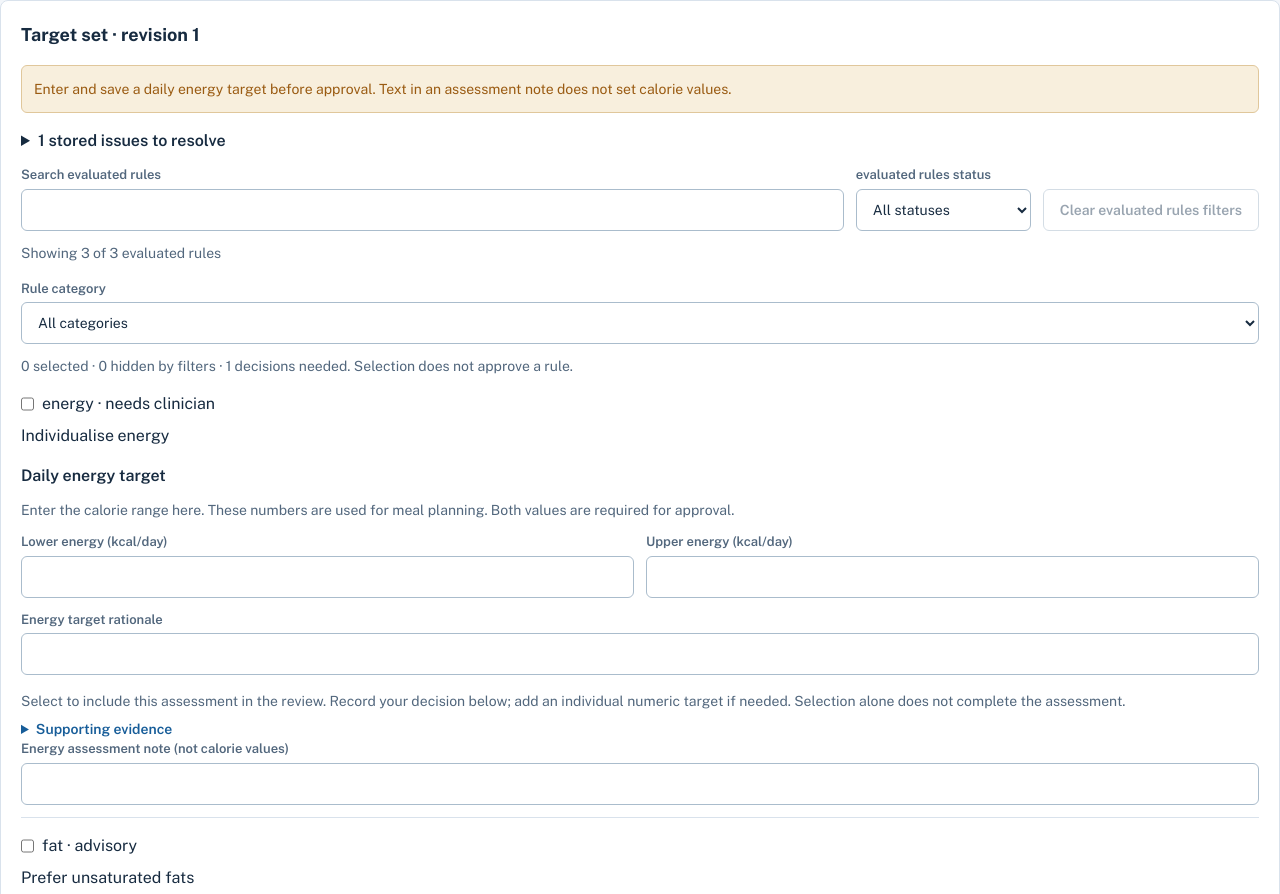
Test case: hidden unresolved assessments are revealed before a save
Select "Advisory guidance" in the dropdown labelled "Rule category" at [640, 323], box x1=21 y1=302 x2=1259 y2=344
(page scrolled)
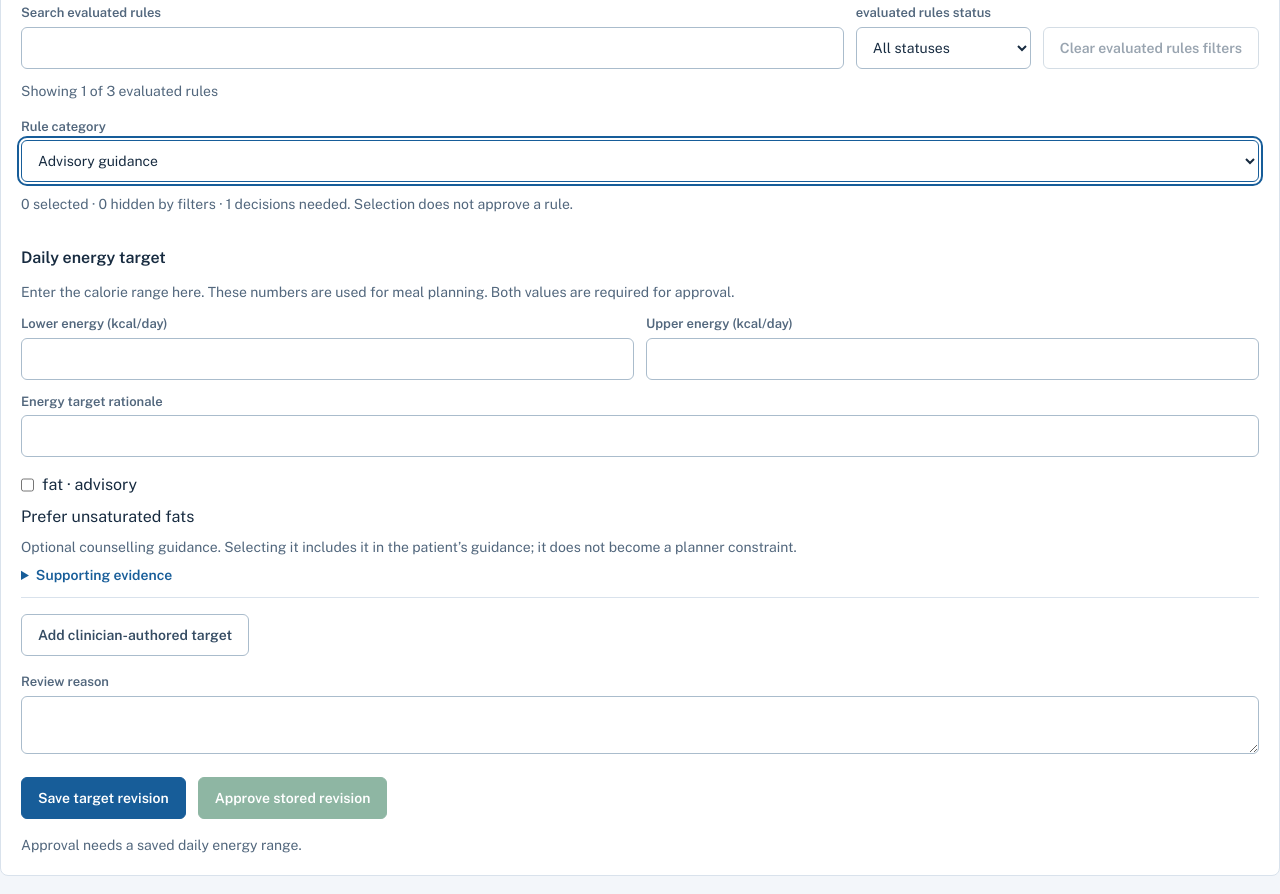
Type "Review" into the text box labelled "Review reason" at [640, 725], box x1=21 y1=696 x2=1259 y2=754
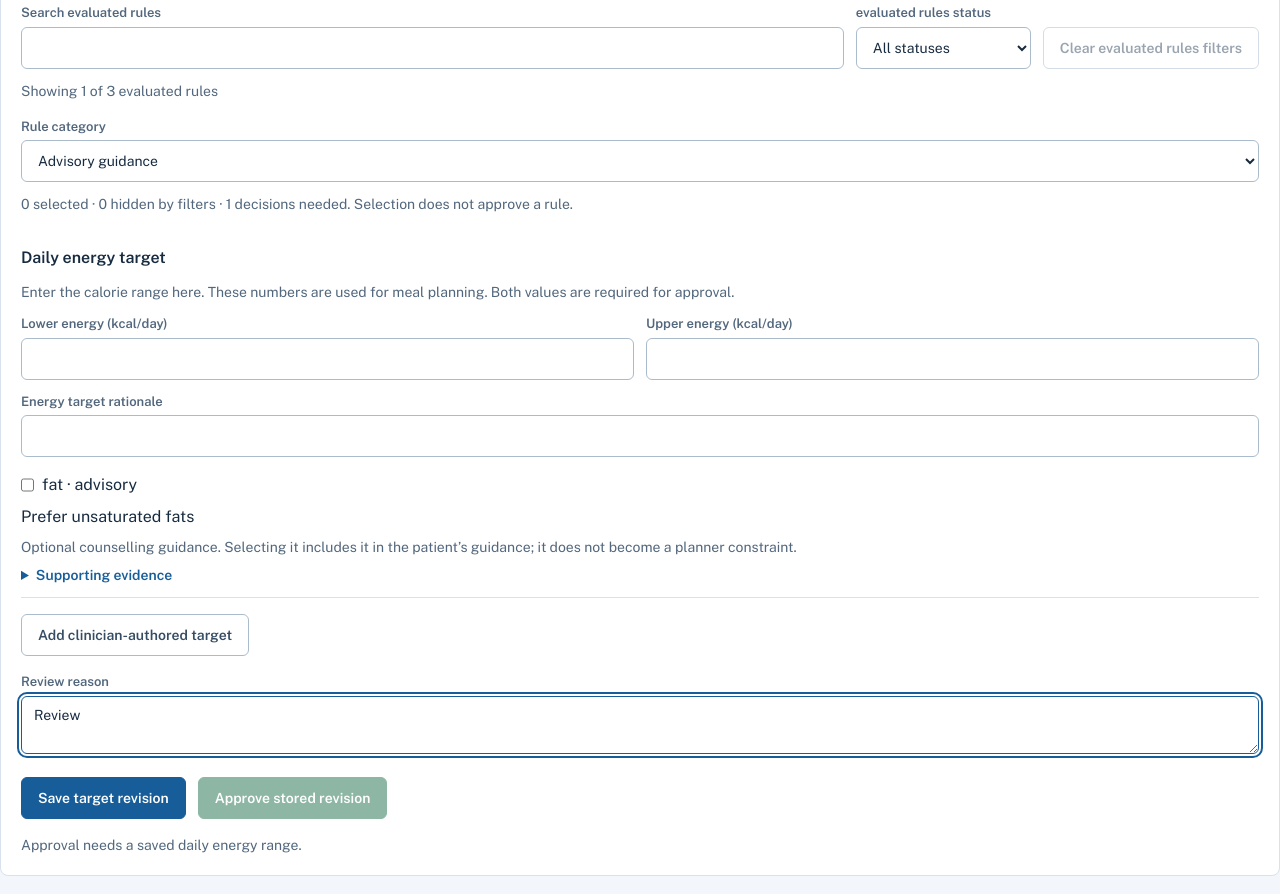
Click the button "Save target revision" at [103, 798], box x1=21 y1=777 x2=186 y2=819
(page scrolled)
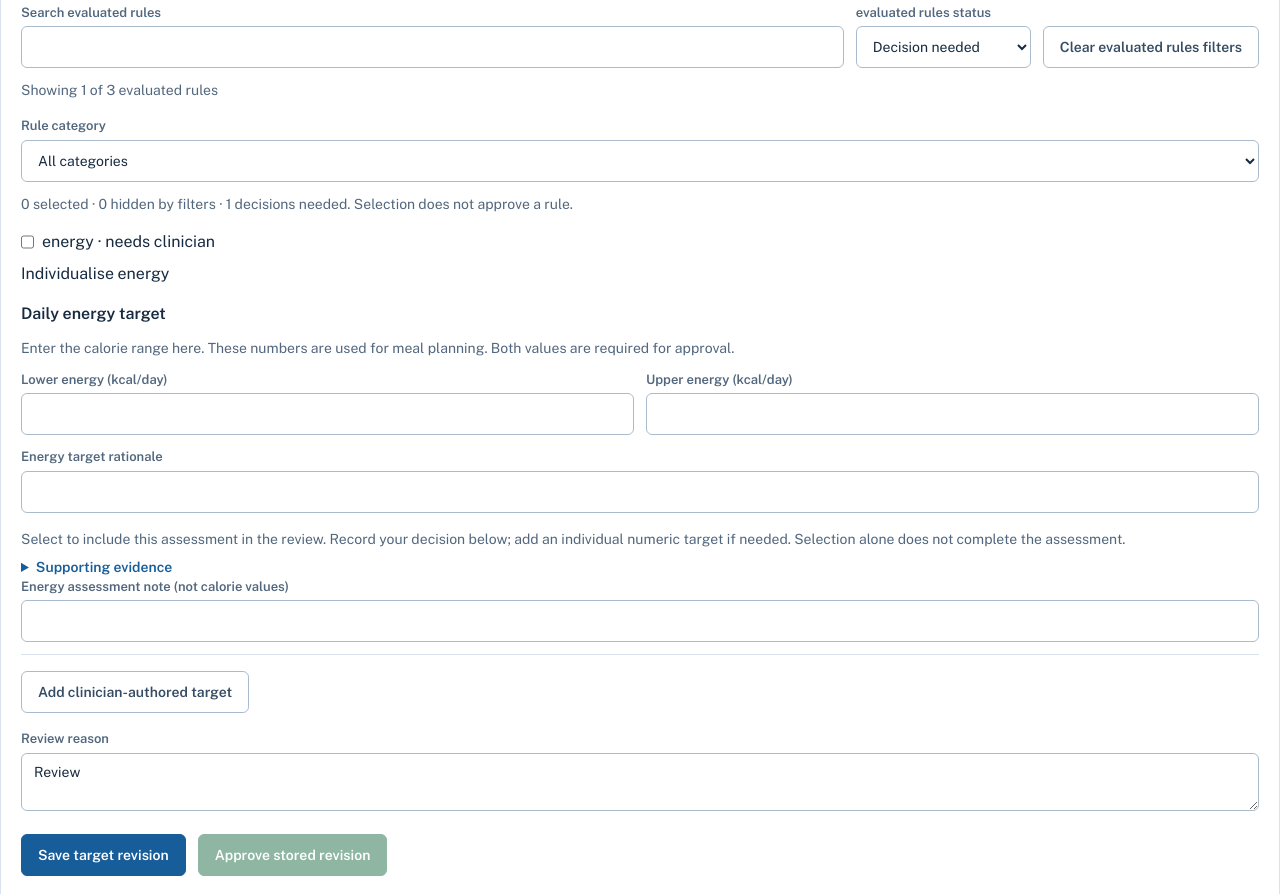
Now the field labelled "Energy assessment note (not calorie values)" is shown, box x1=21 y1=600 x2=1259 y2=642
